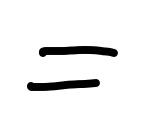eqv: (28, 47, 118, 91)
